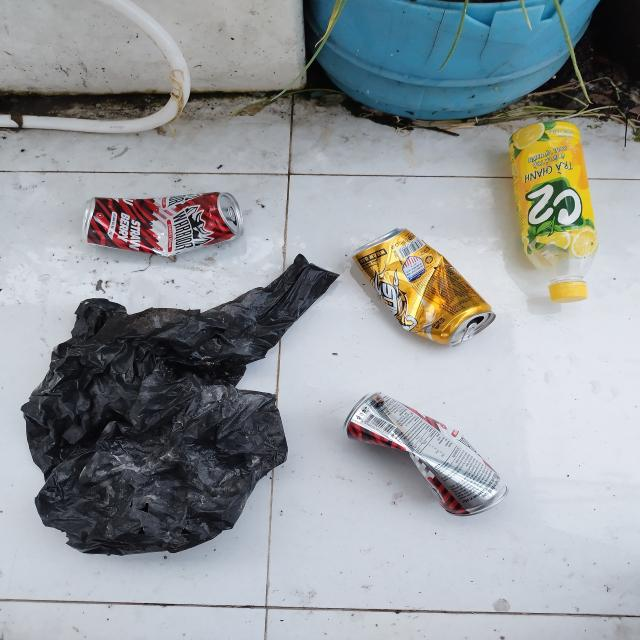bag: (19, 250, 345, 557)
bottle: (506, 122, 600, 304)
can: (344, 392, 511, 516), (353, 226, 498, 348), (82, 192, 244, 257)
